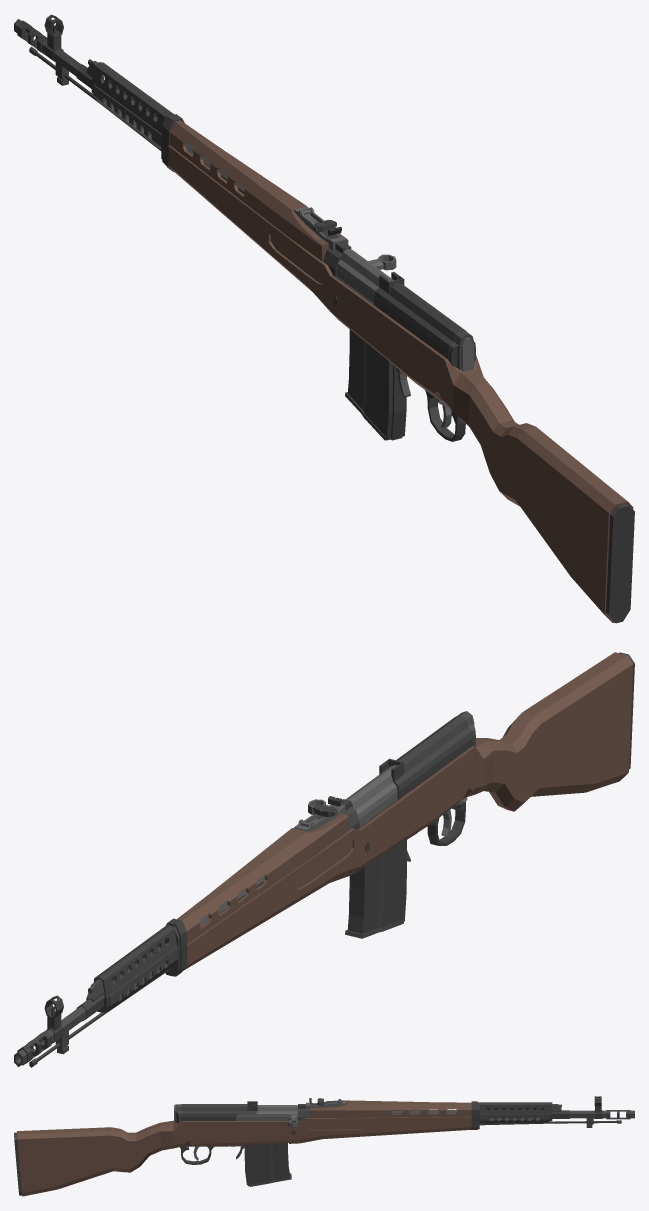
3 renders of one model, top to bottom at view 1: azimuth 30°, elevation 25°; view 2: azimuth 150°, elevation 25°; view 3: azimuth 270°, elevation 25°, orthographic. The views are drawn at different scales.
Parts seen in each view (by area): view 1: svt-40; view 2: svt-40; view 3: svt-40.
Part boxes in pixels (left/top/right/bottom): svt-40: left=14, top=14, right=634, bottom=623; svt-40: left=14, top=652, right=634, bottom=1067; svt-40: left=14, top=1096, right=634, bottom=1196.
Size of the model in its own units: 0.0686 by 0.2165 by 1.23.
